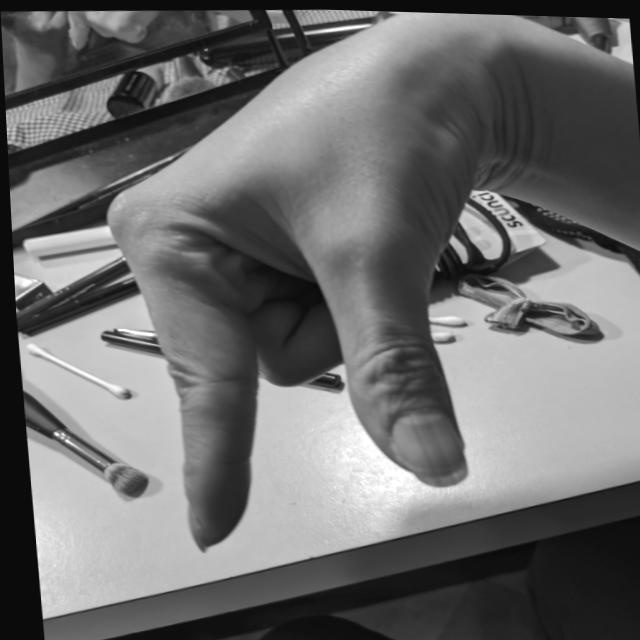Q: (77, 2, 540, 571)
